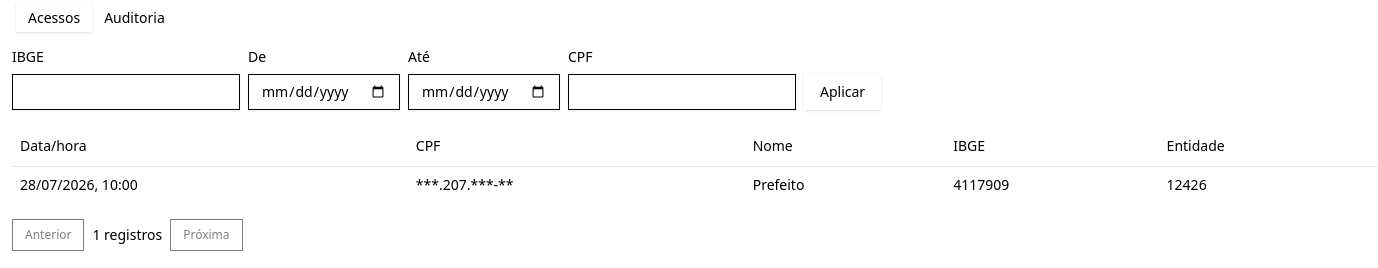
LogsPage › aba Acessos (padrão) mostra nome e CPF mascarado; aba Auditoria mostra a ação
Expected: the text "Prefeito" is shown, [745, 166, 945, 202]
Expected: the text "***.207.***-**" is shown, [408, 166, 745, 202]
Click the tab "Auditoria" at coordinates (134, 18), box [92, 4, 177, 32]
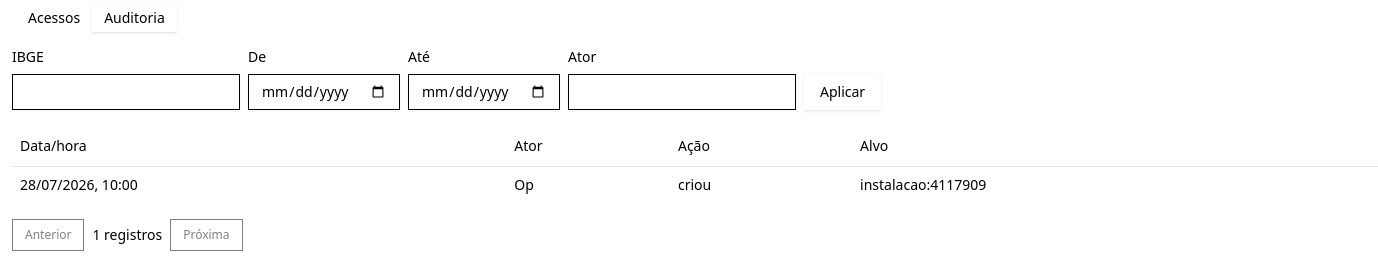
Now the text "criou" is shown, box [670, 166, 852, 202]
